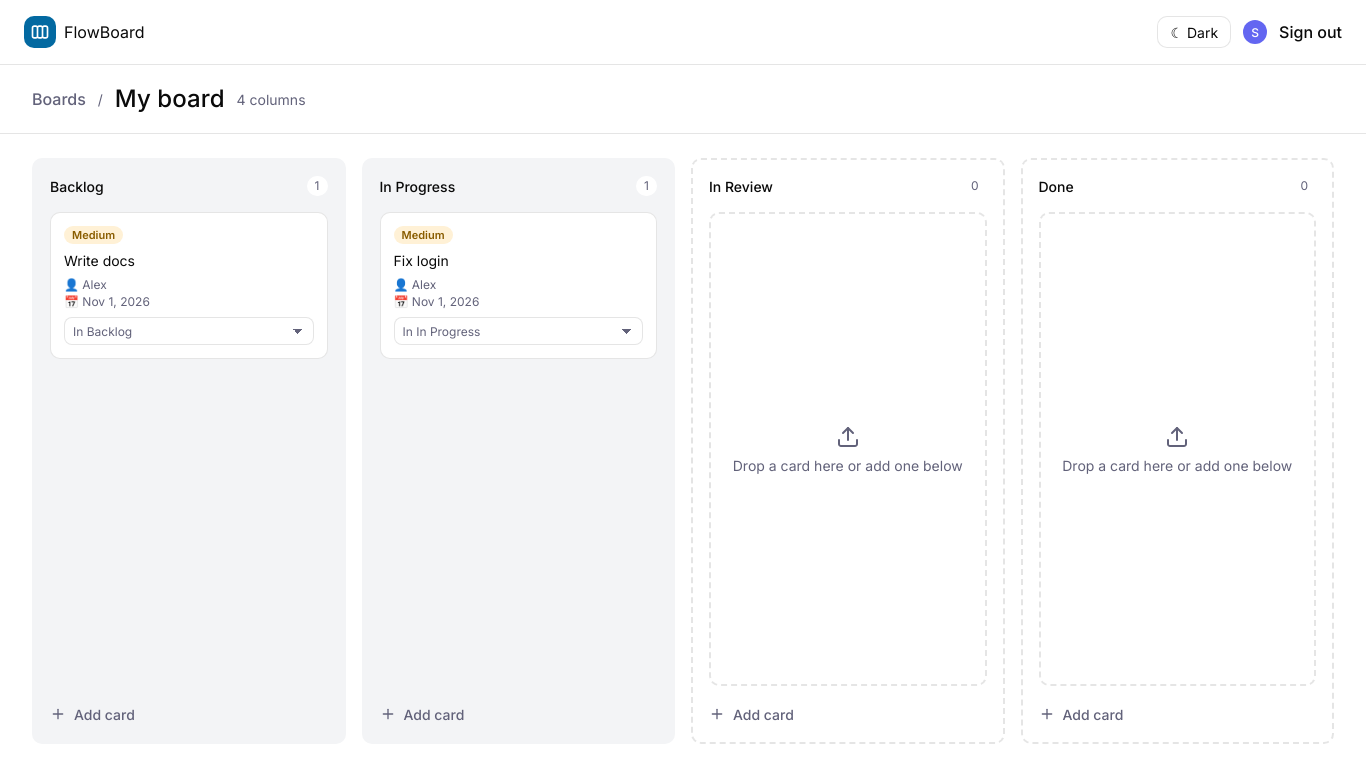
Test: board › shows a safe error and keeps the dialog open when creating fails
expect the heading "My board" is shown: met, box [115,81,225,117]
expect the button "Write docs" is shown: met, box [64,252,314,269]
Click the button with aria-label "Add card to Backlog" at point(104, 714), box [50,702,328,726]
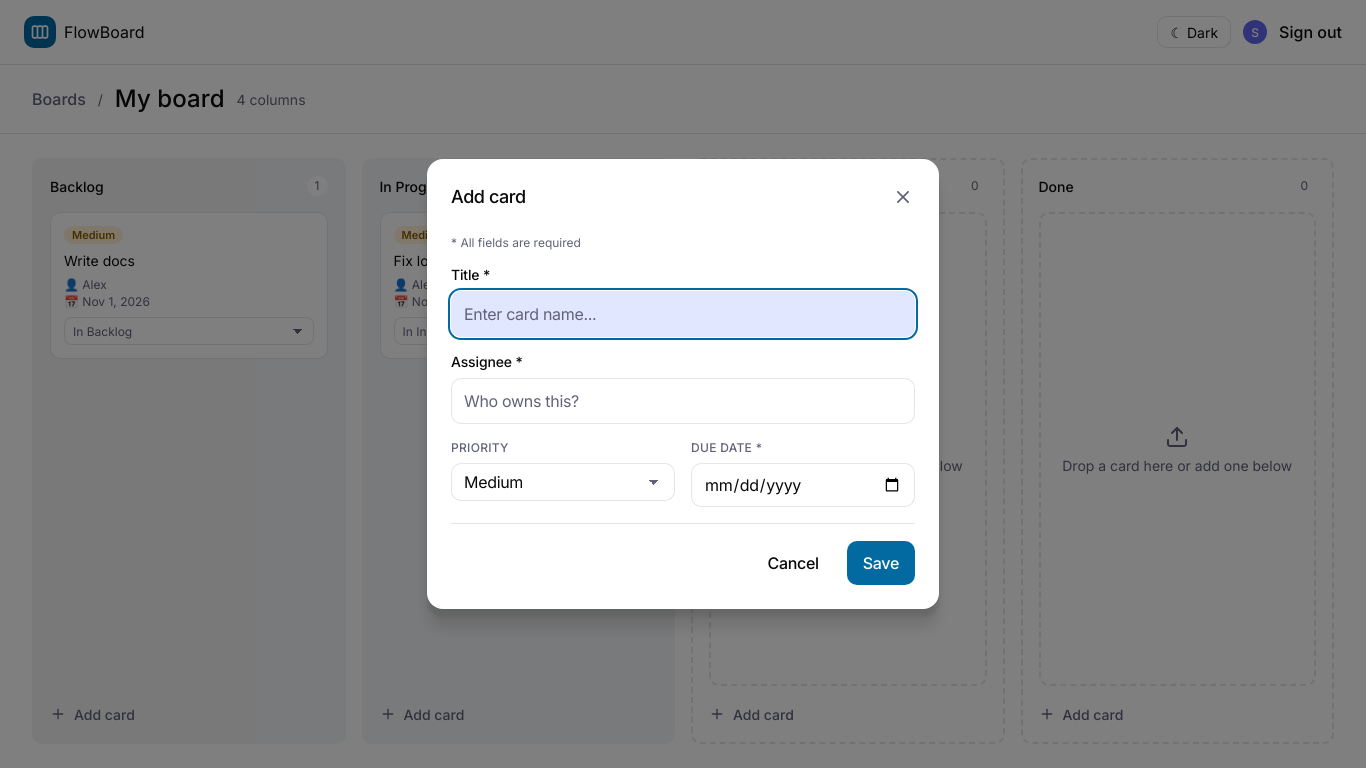
Type "X" into the field labelled "Title *" at point(683, 314), box [451,291,915,337]
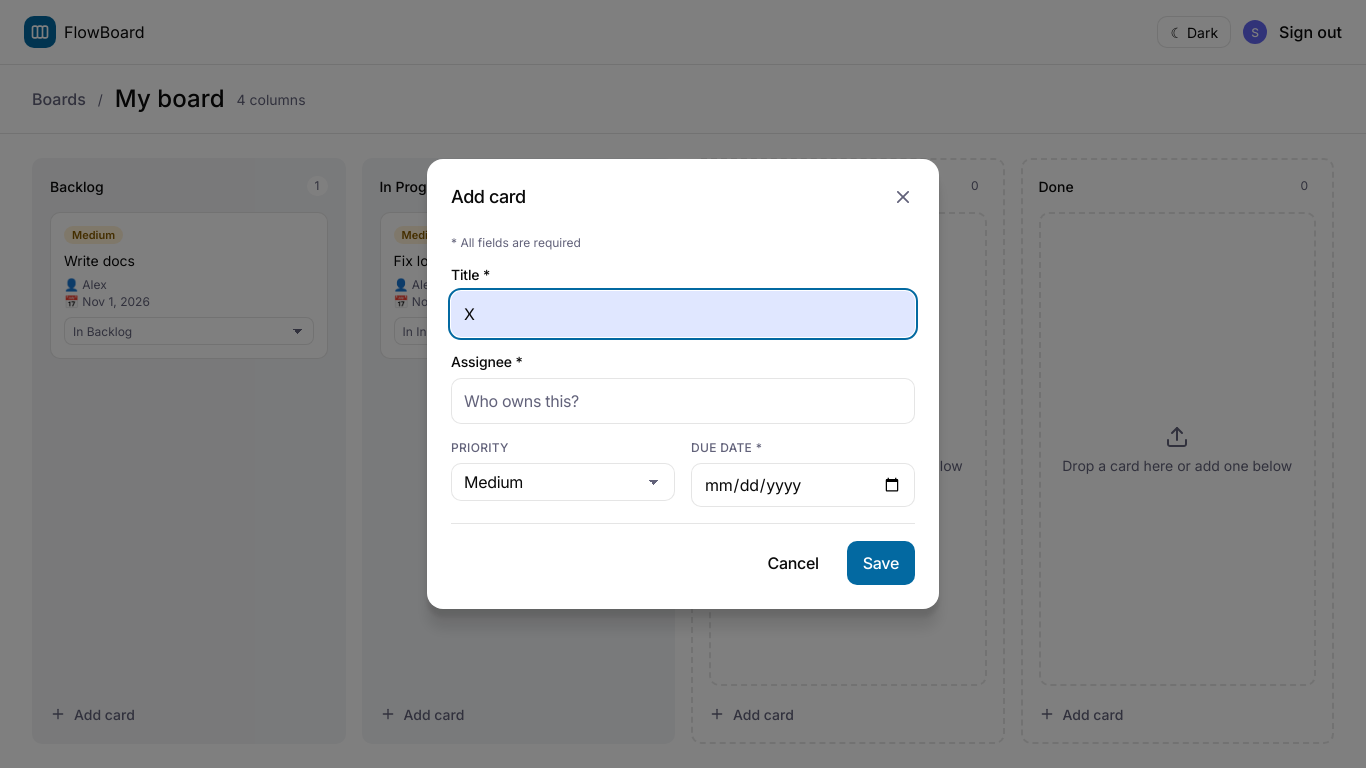
Type "Sam" into the field labelled "Assignee *" at point(683, 401), box [451,378,915,424]
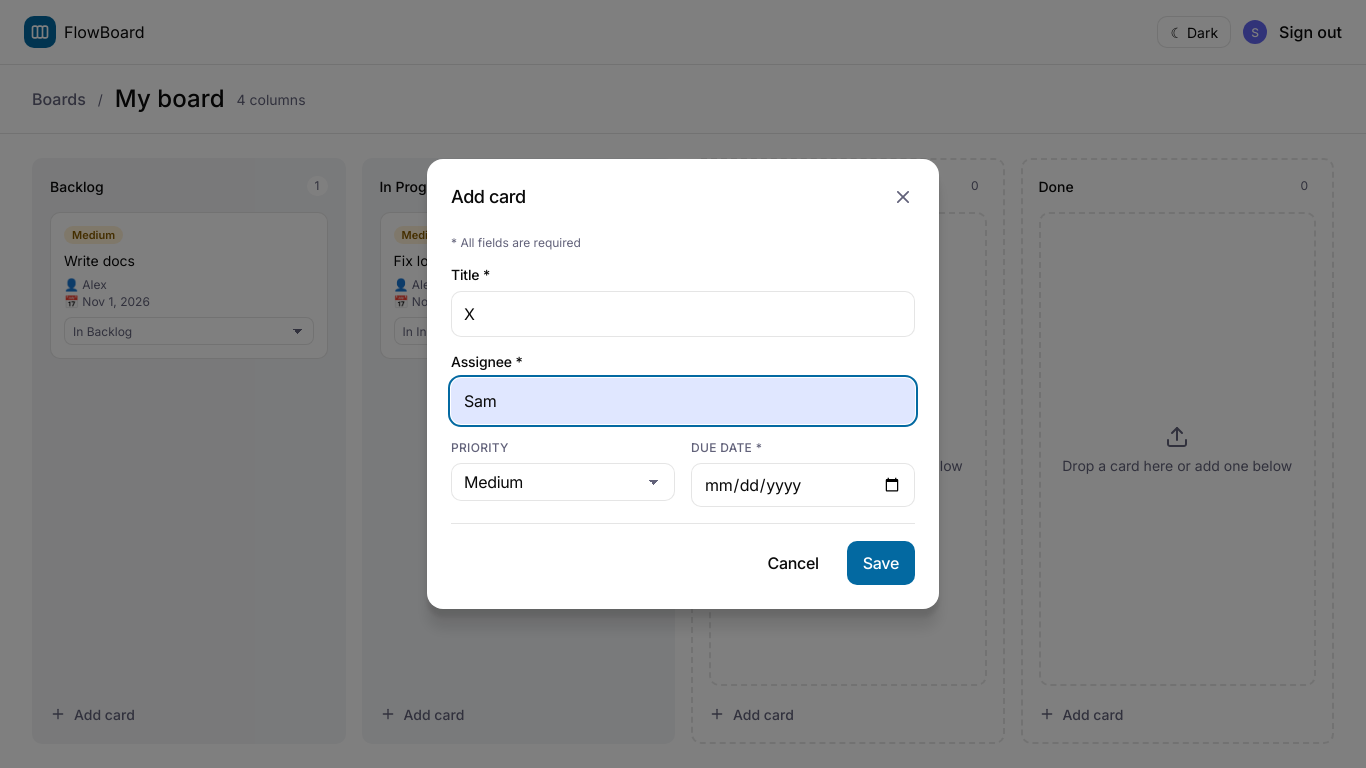
Type "2026-12-24" into the date field labelled "Due date *" at point(803, 485), box [691,463,915,507]
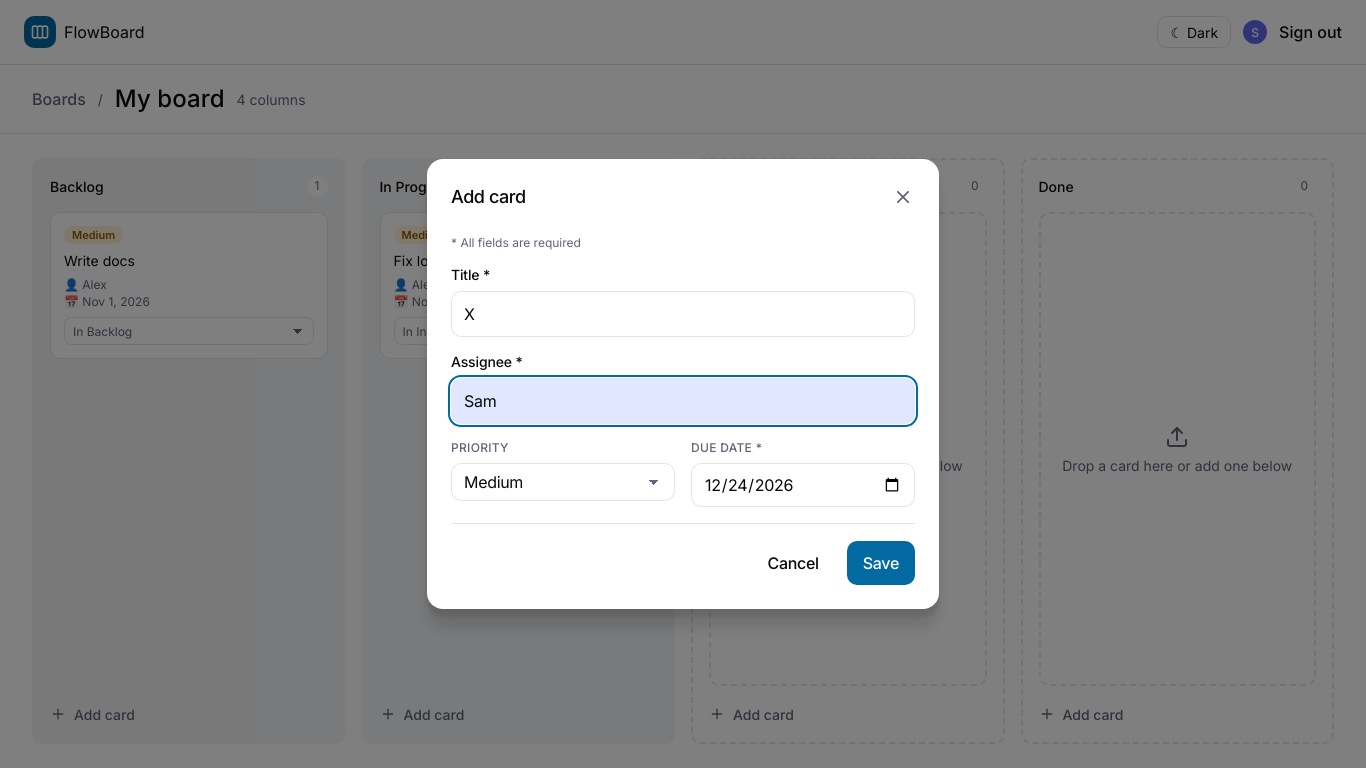
Click the button "Save" at point(881, 563), box [847,541,915,585]
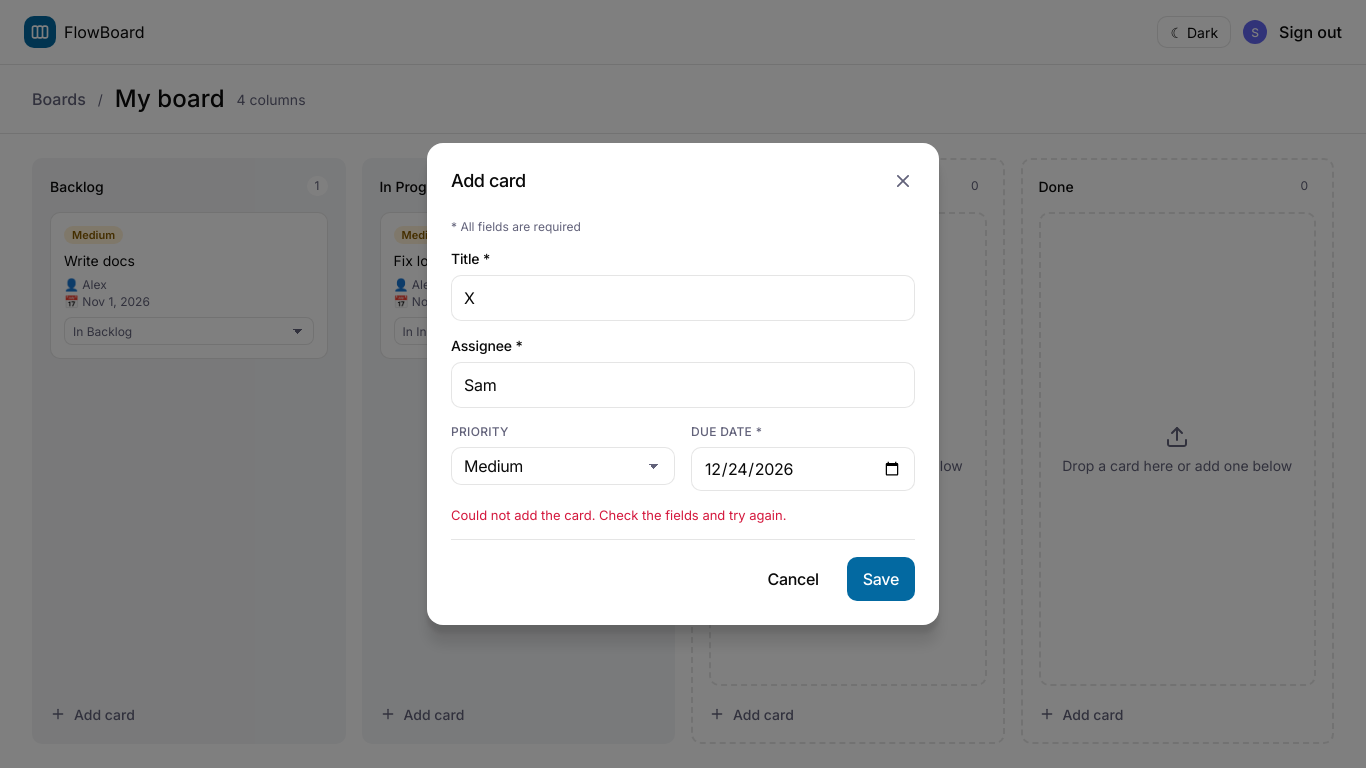
expect the message shows "Could not add": met, box [451,507,786,523]
